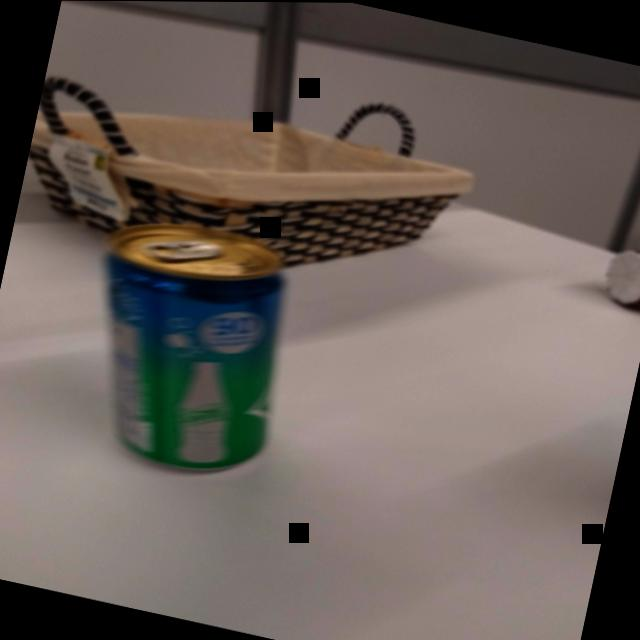sprite: (56, 194, 318, 491)
